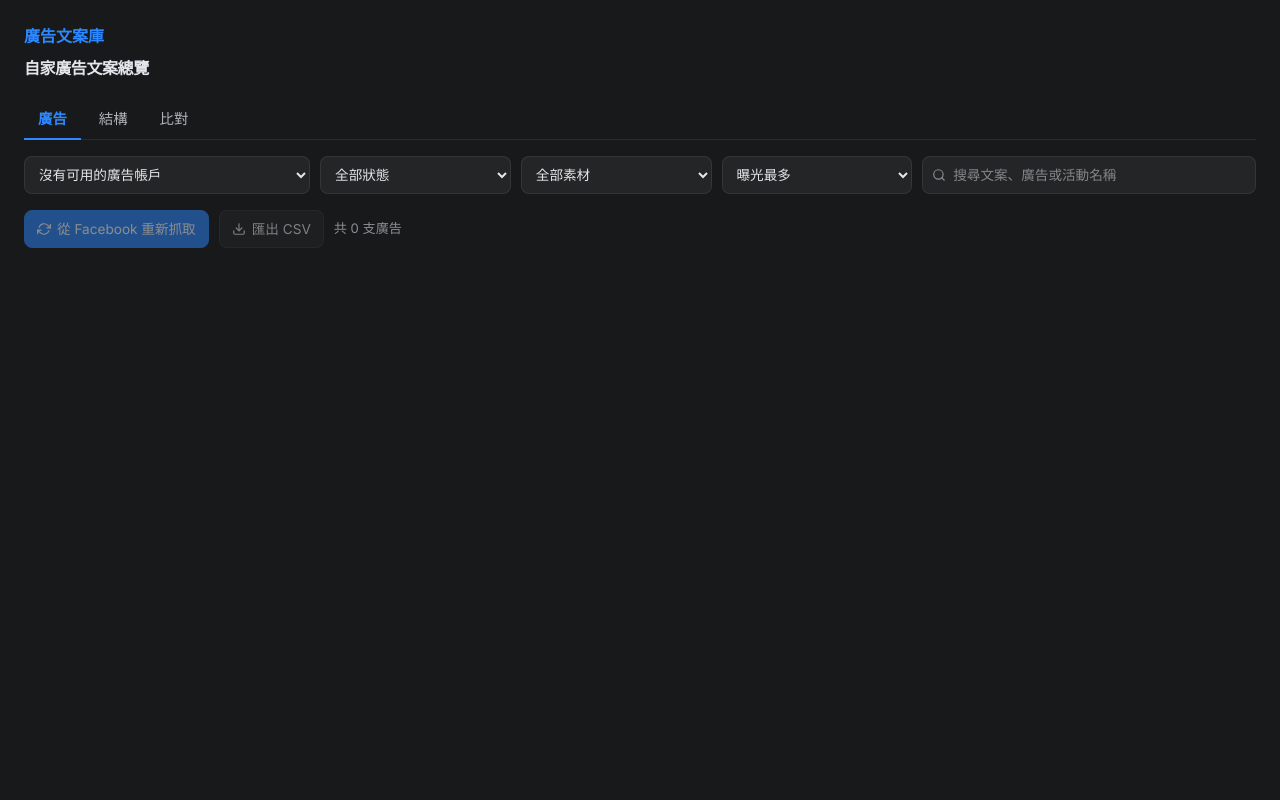
Scenario: AdLibrary › streams a new analysis and reloads the saved result
The image size is (1280, 800).
Click the tab "結構" at x=113, y=120, box [85,100,142,140]
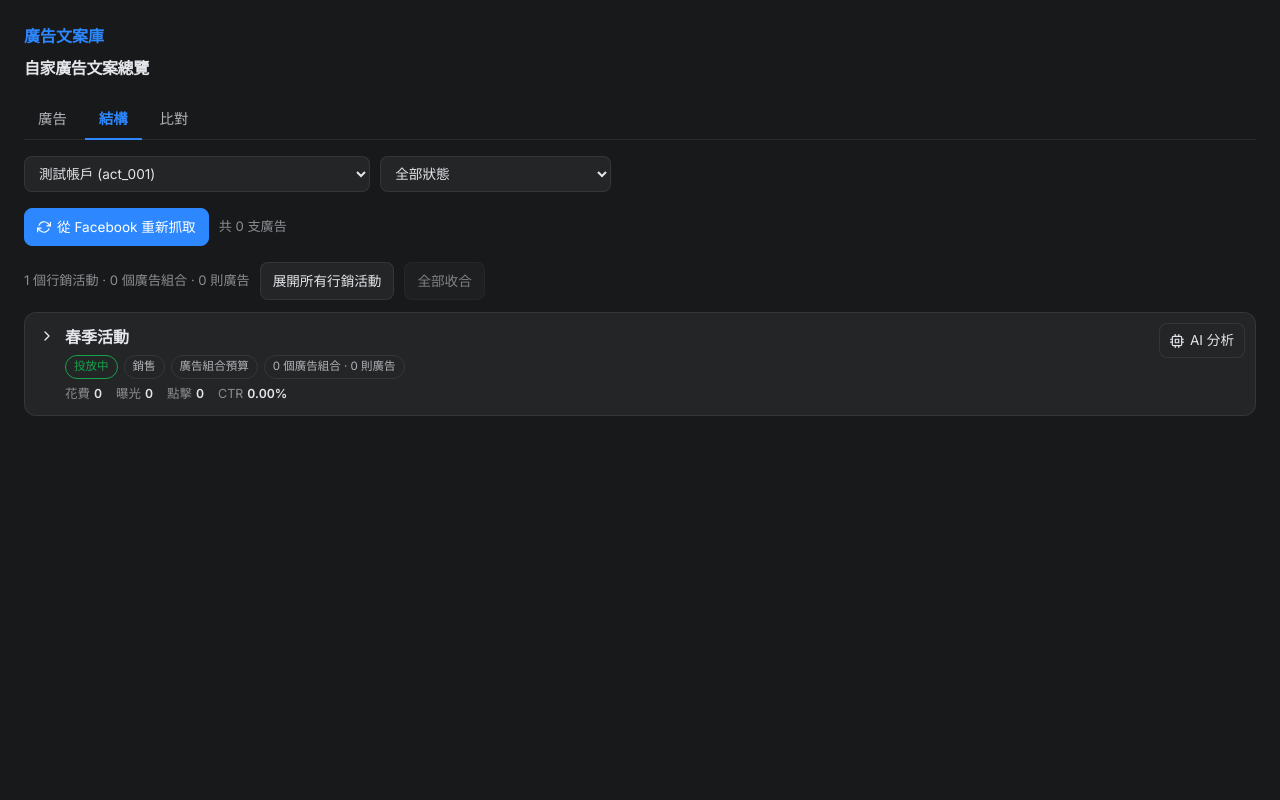
Click the button with aria-label "AI 分析：春季活動" at x=1202, y=341, box [1159,323,1245,358]
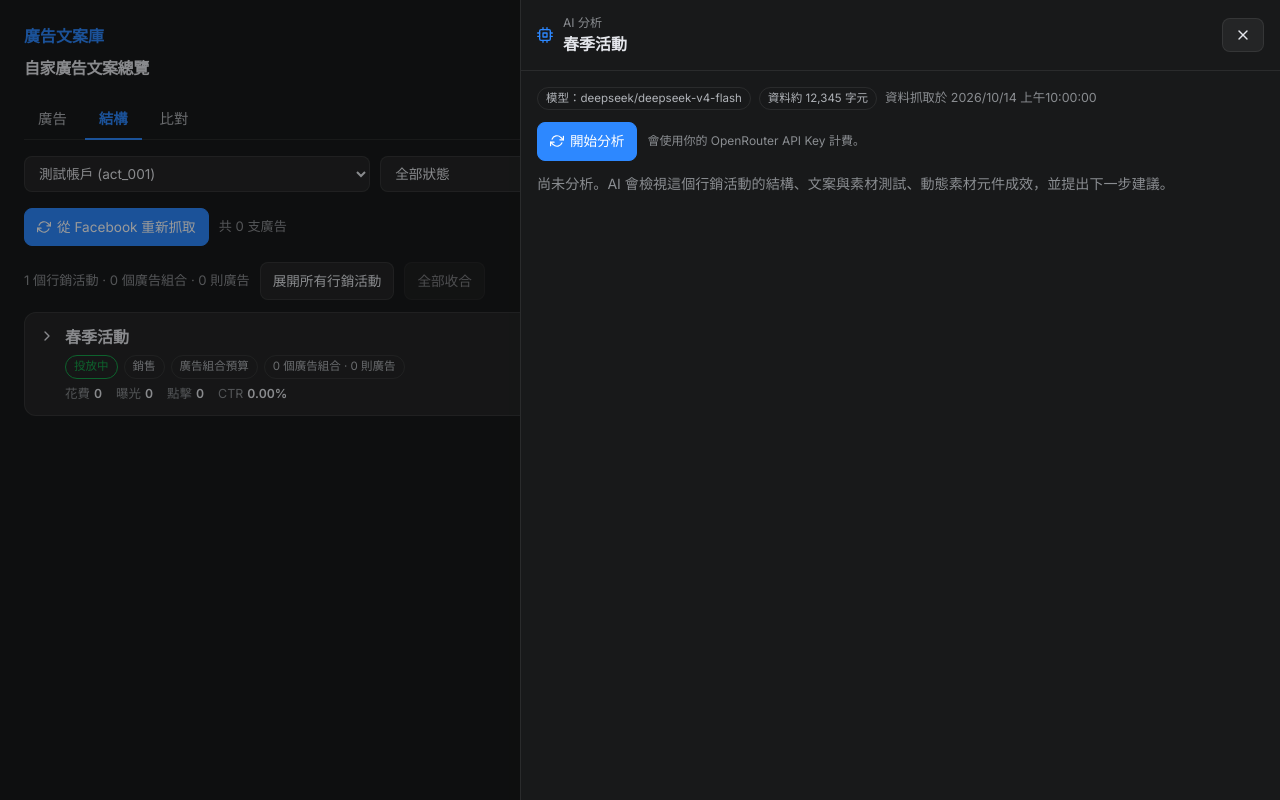
Now the text "資料約 12,345 字元" is shown, box [759,87,877,110]
Click the button "開始分析" at x=587, y=142, box [537,122,637,161]
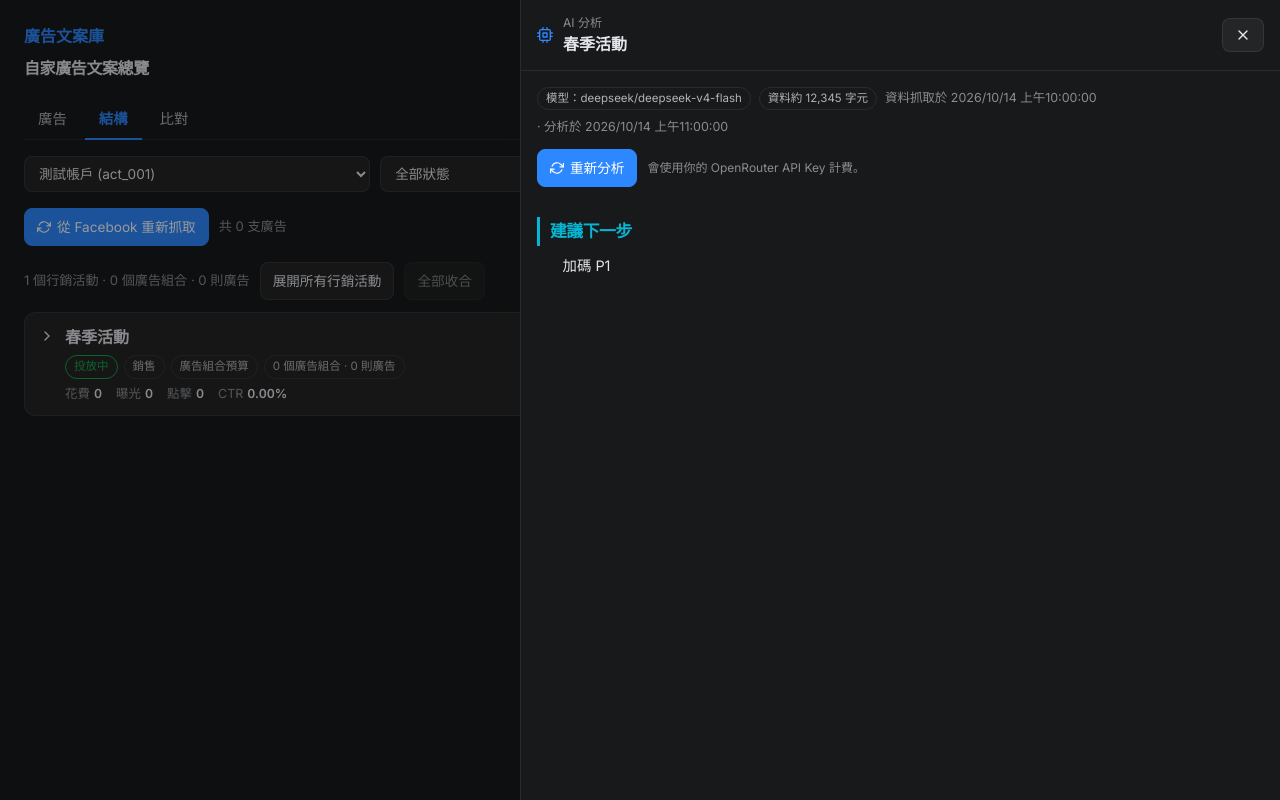
Now the list item "加碼 P1" is shown, box [563,257,610,274]
